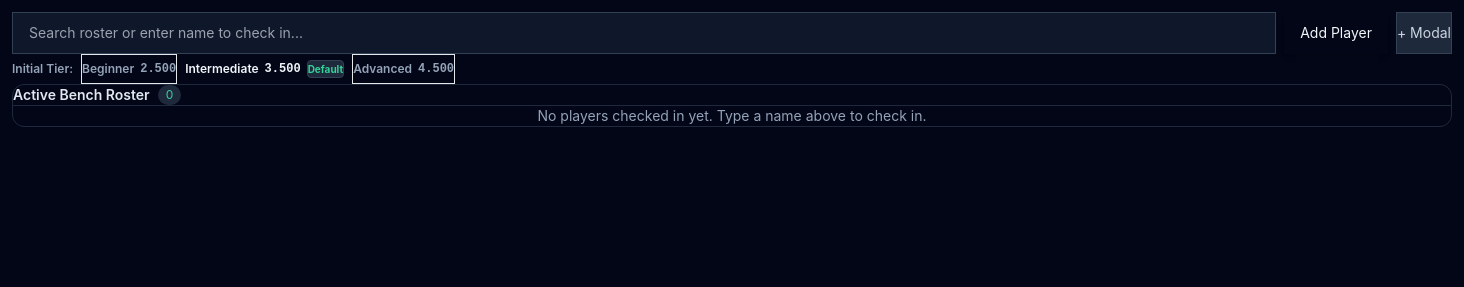
Test: RosterCheckInList › shows typeahead suggestions to prevent duplicate profiles
The image size is (1464, 287).
# Add first player
Type "Kevin Sukamuljo" into the field with placeholder "Search roster or enter name to check in...". click: (644, 33)
box: [12, 12, 1276, 54]
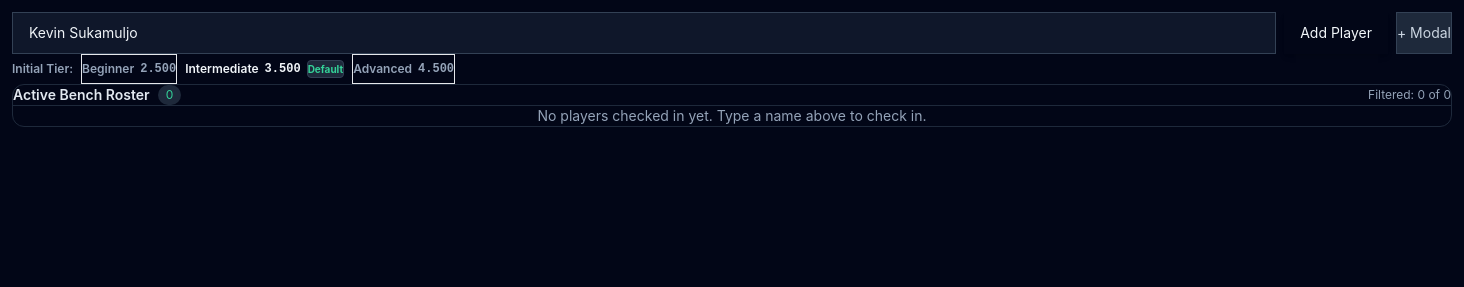
Click the button "Add Player". click: (1336, 33)
box: [1284, 12, 1388, 54]
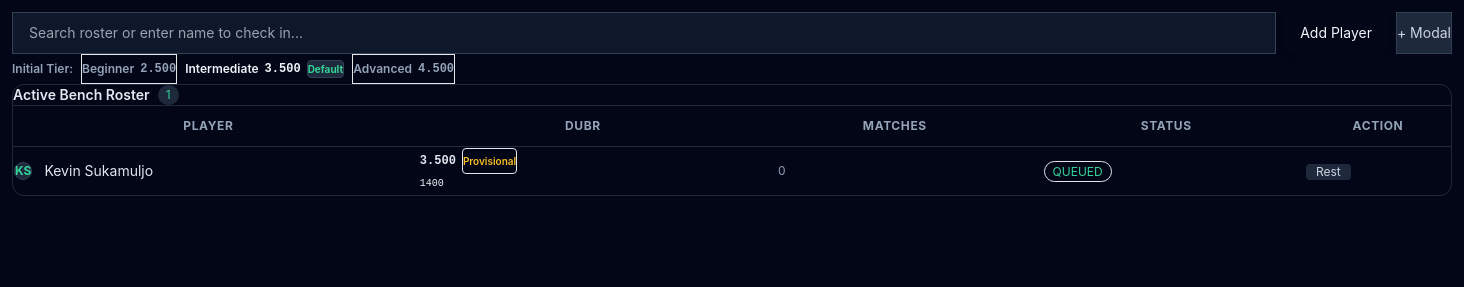
Expected: the text "Kevin Sukamuljo" is shown, [44, 161, 153, 181]
Type "Kev" into the field with placeholder "Search roster or enter name to check in...". click: (644, 33)
box: [12, 12, 1276, 54]
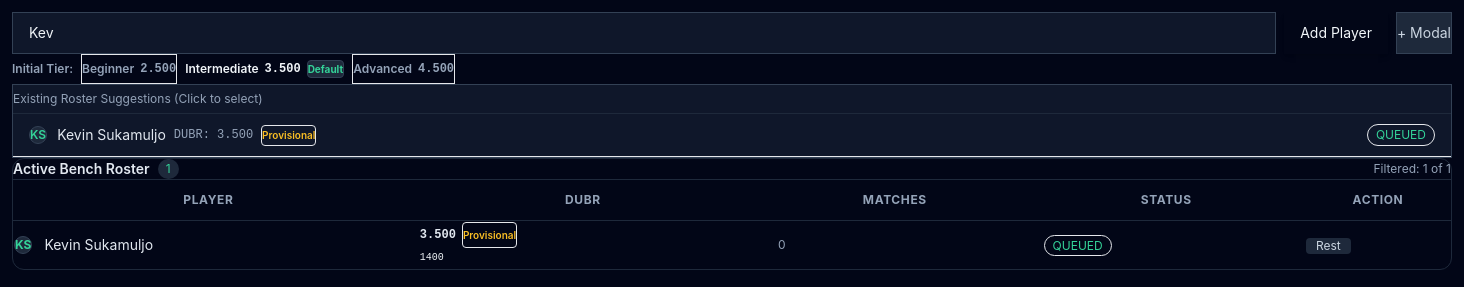
Expected: the button with aria-label "Select existing player Kevin Sukamuljo" is shown
# Clicking suggestion clears input and prevents duplicate creation
Click the button with aria-label "Select existing player Kevin Sukamuljo". click: (111, 134)
box: [13, 114, 1451, 157]
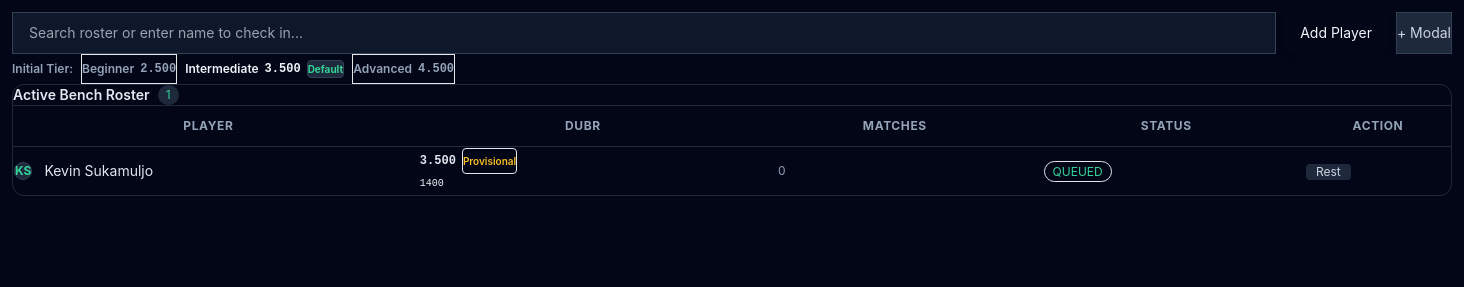
Expected: the text "Kevin Sukamuljo" is shown once, [44, 161, 153, 181]
Expected: the field with placeholder "Search roster or enter name to check in..." is empty, [12, 12, 1276, 54]
